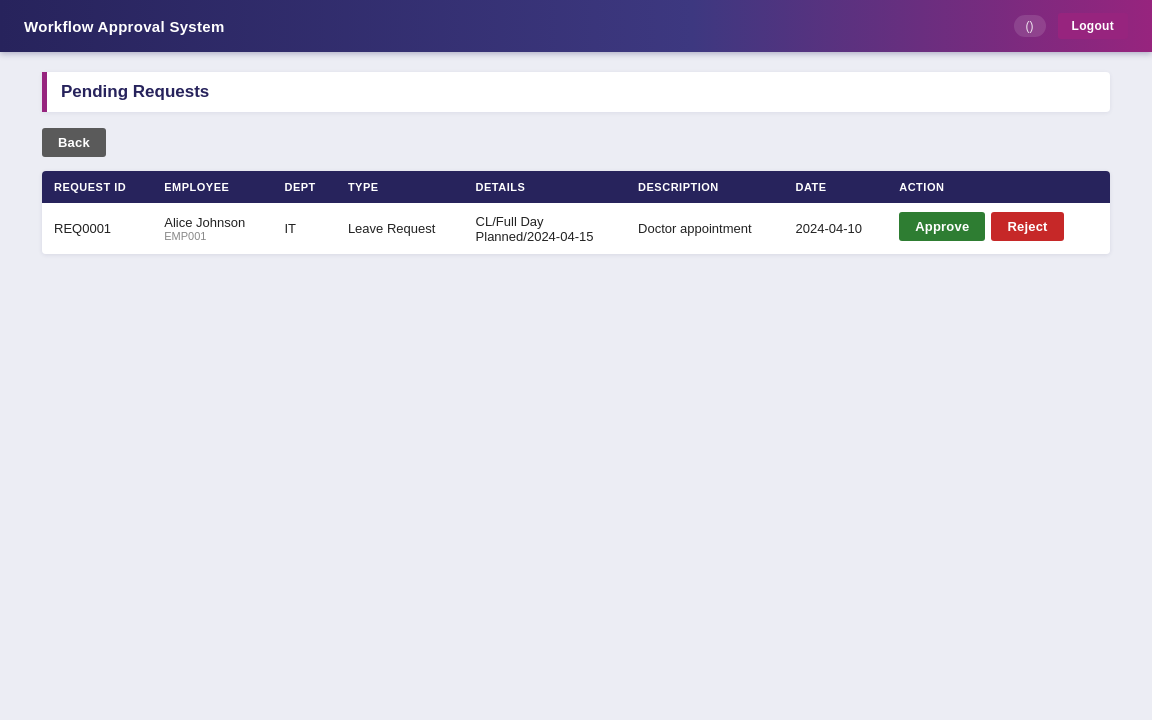
Test: PendingRequests › opens modal when Approve clicked
expect the text "Alice Johnson" is shown: met, box [164,215,245,230]
Click the button "Approve" at (942, 226), box [899,212,985,241]
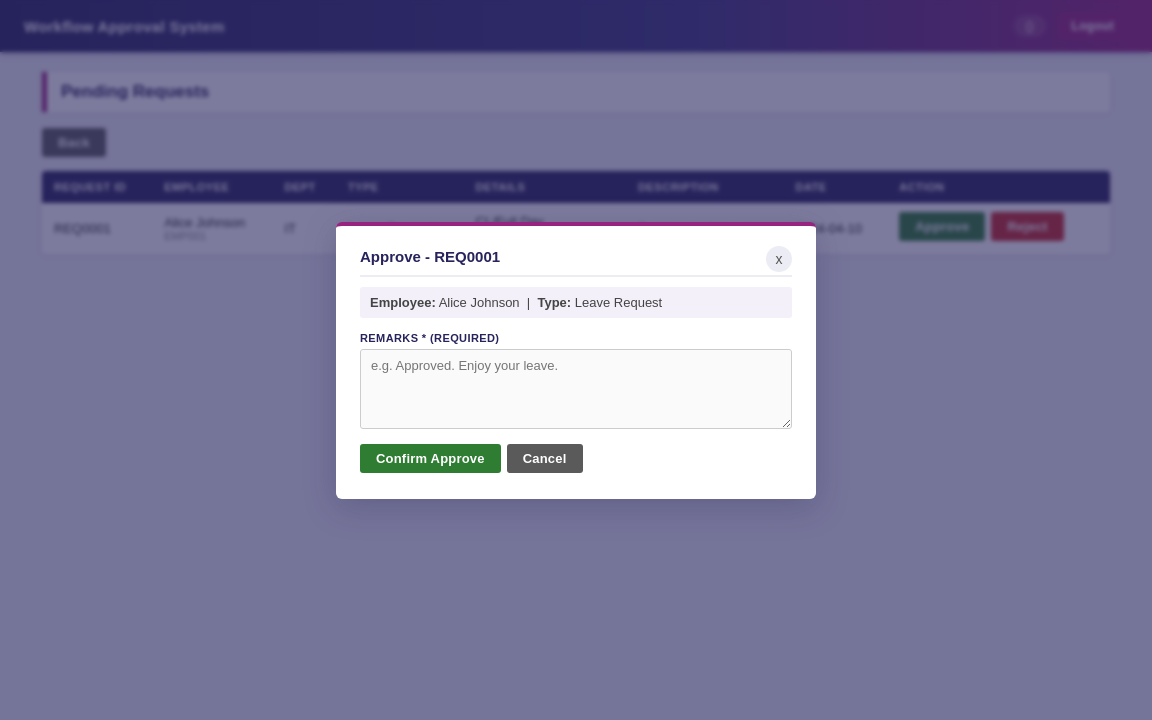
expect the button "Confirm Approve" is shown: met, box [360,444,501,472]
